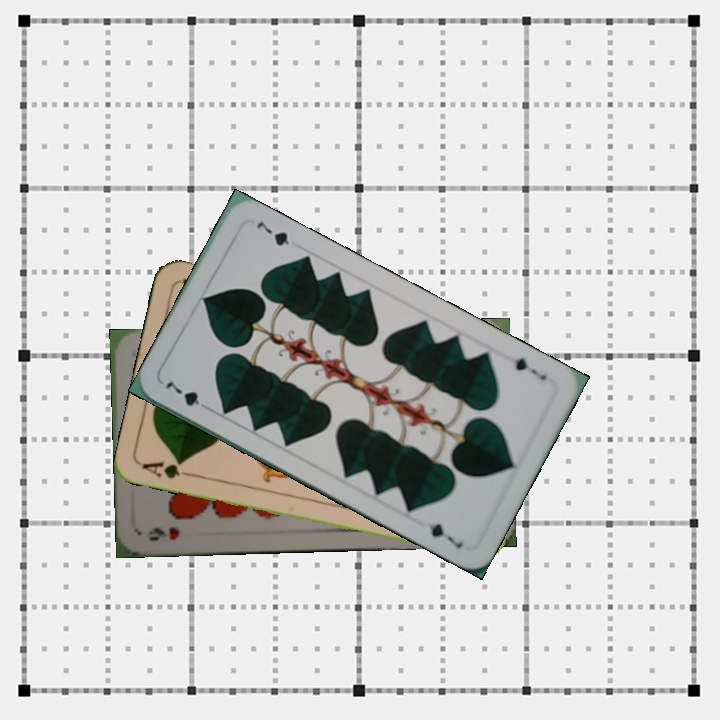G7: (161, 377, 214, 414), (509, 353, 550, 383)
GA: (138, 457, 197, 482)
H9: (144, 523, 181, 543)
